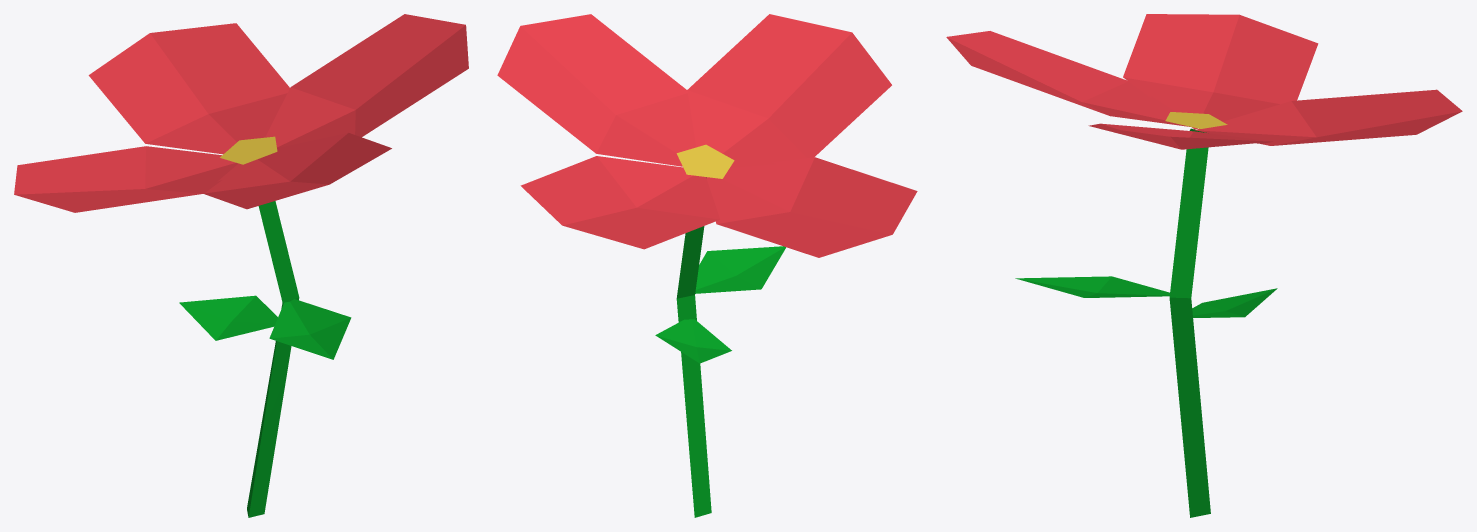
Rendered from Flowerrotatefixhopefully.fbx.
3 views of the same model, side by side, from view 1: azimuth 30°, elevation 25°; view 2: azimuth 150°, elevation 25°; view 3: azimuth 270°, elevation 25° (orthographic). The views are drawn at different scales.
Parts seen in each view (by area): view 1: petal 4, petal 2, petal 3, petal 1, stem, leaf 1, leaf 2, centre bud; view 2: petal 1, petal 2, petal 3, petal 4, stem, leaf 1, leaf 2, centre bud; view 3: petal 3, petal 4, stem, petal 1, leaf 1, petal 2, leaf 2, centre bud.
Boxes of the visible parts, x1,y1,x2,y2 form: petal 4: (88,23,289,154); petal 2: (265,14,468,147); petal 3: (14,146,238,212); petal 1: (204,132,391,209); stem: (247,201,299,517); leaf 1: (269,299,351,359); leaf 2: (179,295,277,340); centre bud: (220,136,277,164); petal 1: (687,14,891,167); petal 2: (497,14,696,166); petal 3: (706,157,917,257); petal 4: (520,156,720,249); stem: (676,177,711,517); leaf 1: (695,246,785,293); leaf 2: (655,319,731,363); centre bud: (676,144,734,178); petal 3: (1123,14,1318,129); petal 4: (1195,89,1462,145); stem: (1169,128,1210,517); petal 1: (946,31,1191,127); leaf 1: (1015,276,1169,297); petal 2: (1088,123,1272,149); leaf 2: (1192,288,1277,317); centre bud: (1165,112,1227,128).
Size of the model in its own units: 420 by 429 by 417.
